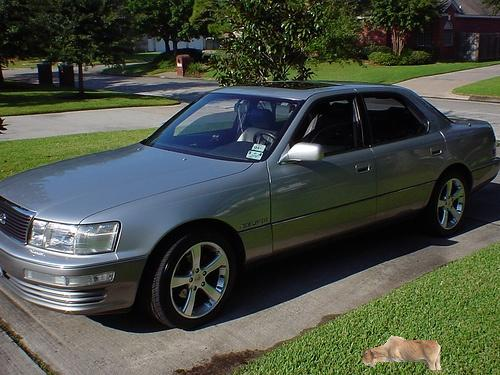tampered: (363, 336, 441, 370)
